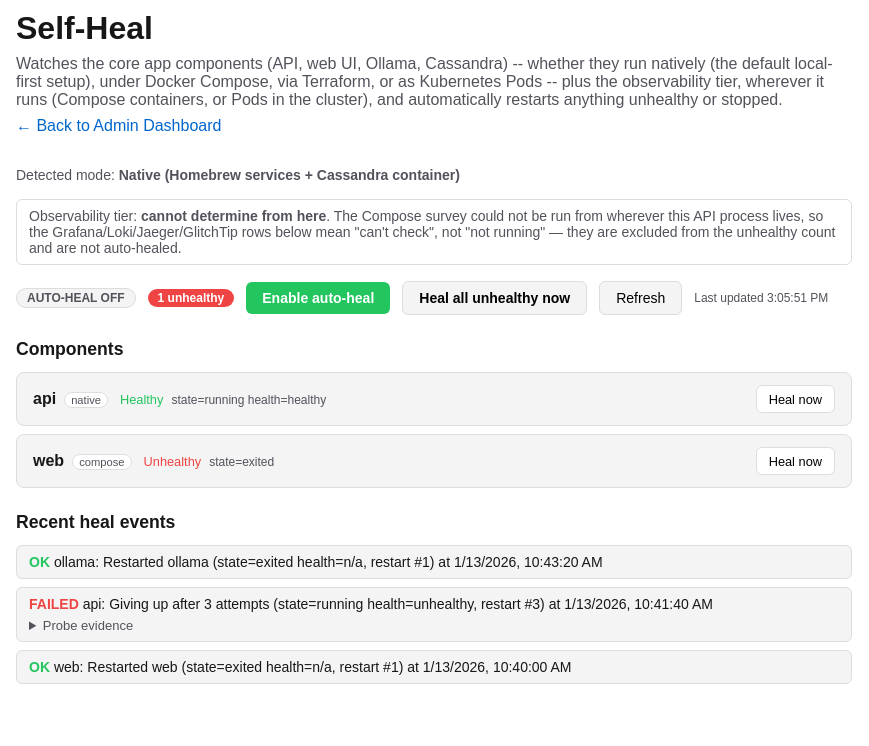
SelfHealPage › heals a single component, honoring a declined confirmation
Expected: the button "Heal now" in the row of "state=running health=healthy" is shown, [756,385,835,413]
Click the 2nd button "Heal now" at {"x": 795, "y": 461}, box [756,447,835,475]
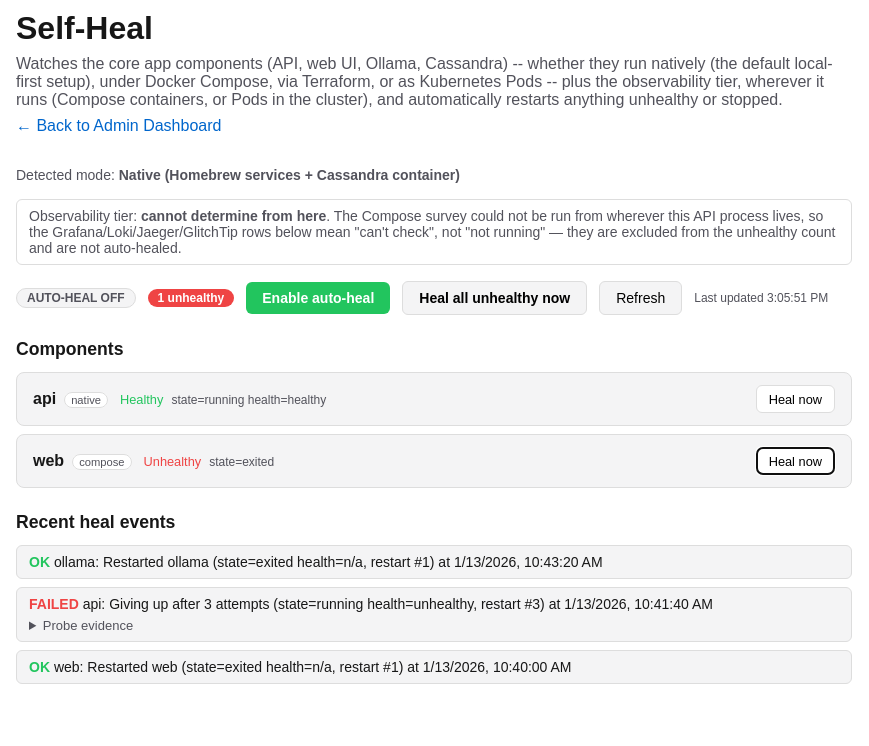
Expected: the text "Restarted:" is not shown
Click the 2nd button "Heal now" at {"x": 795, "y": 461}, box [756,447,835,475]
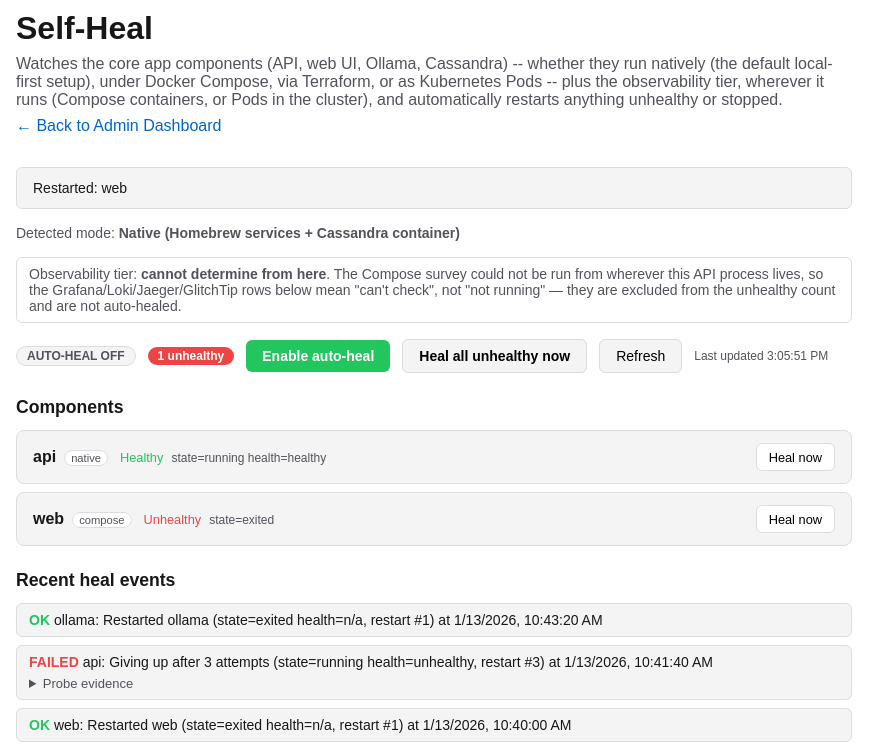
Now the text "Restarted: web" is shown, box [16,167,852,209]
